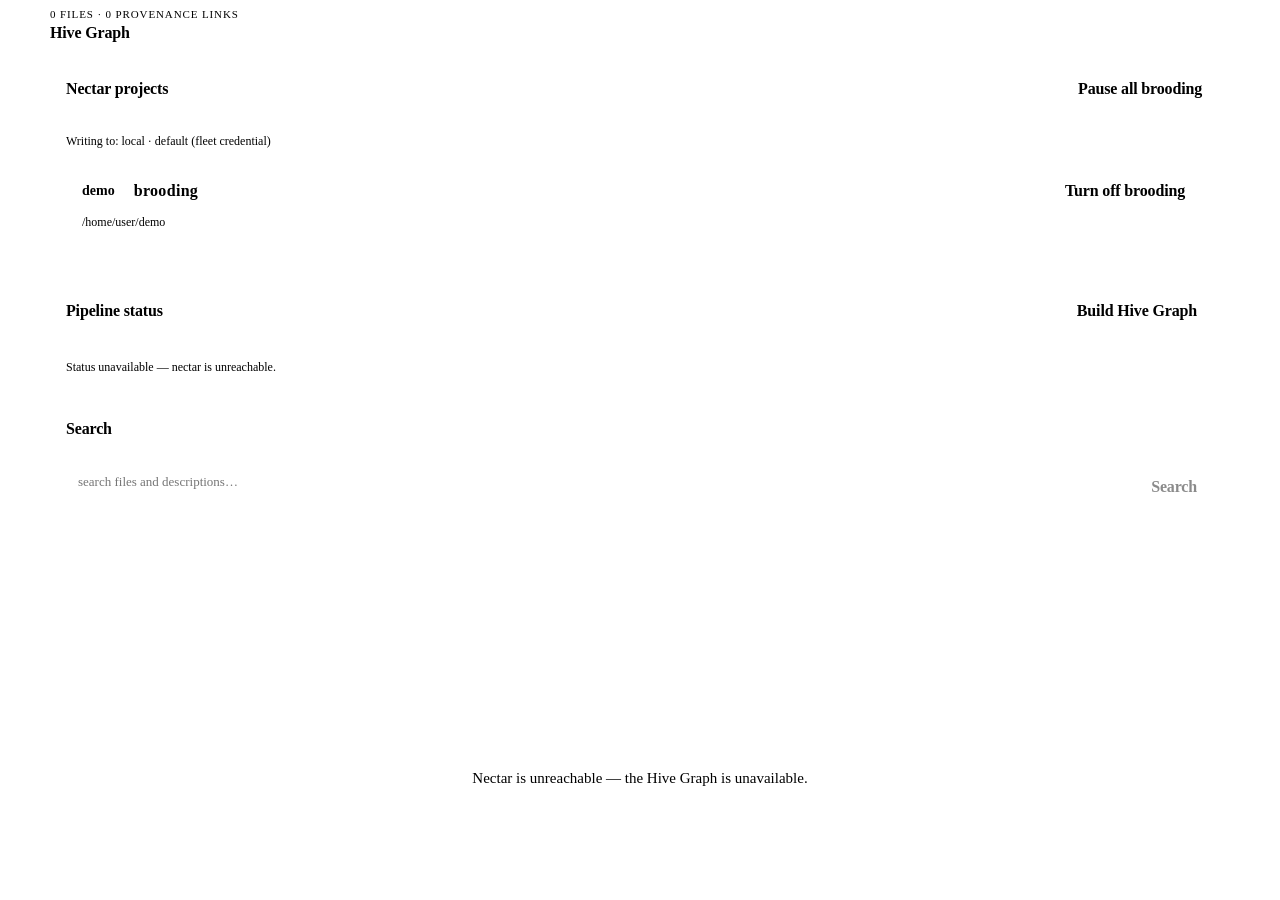
Test: HiveGraphPage › 015-AC-6 b-AC-10 shows unavailable states when nectar is down
The width and height of the screenshot is (1280, 900).
Expected: the element with test id "hive-graph-empty-state" shows "unreachable", top-left (472, 770), bottom-right (808, 786)
In the field with test id "hive-graph-search-input": (596, 482) top-left (66, 467), bottom-right (1126, 497), type "x"
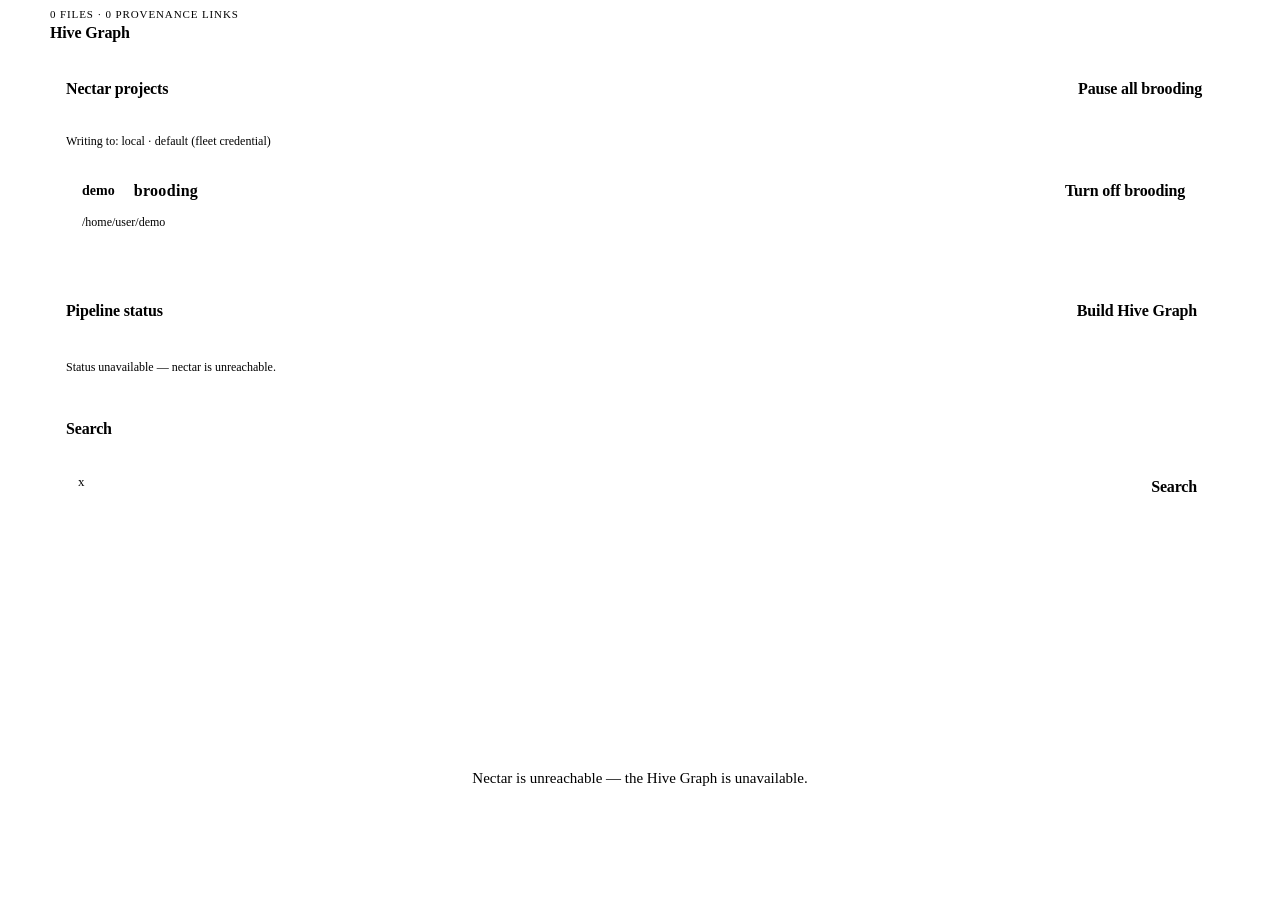
Click the button with test id "hive-graph-search-submit": (1174, 487) top-left (1134, 467), bottom-right (1214, 507)
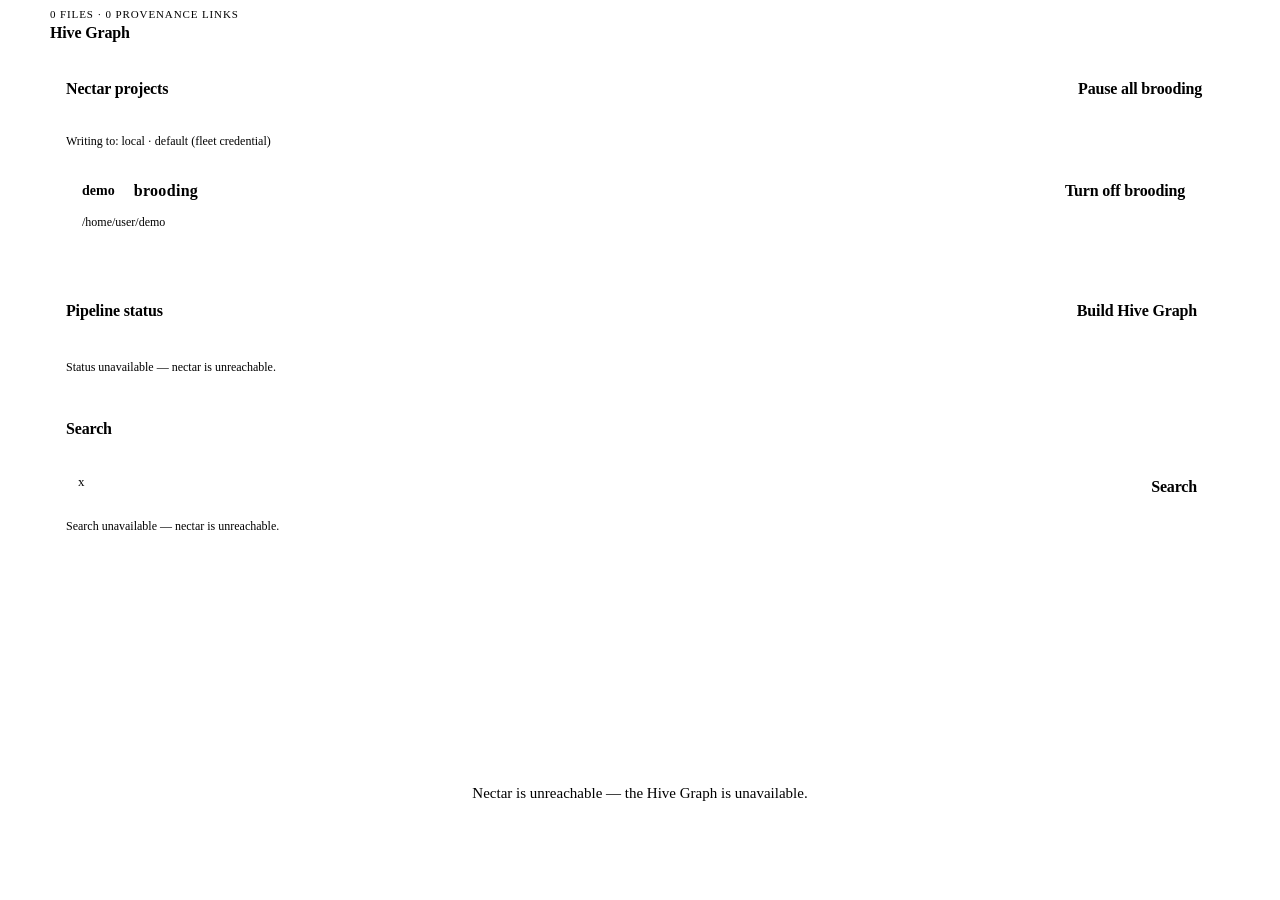
Expected: the text "Status unavailable — nectar is unreachable." is shown, top-left (66, 360), bottom-right (276, 374)
Expected: the text "Search unavailable — nectar is unreachable." is shown, top-left (66, 519), bottom-right (279, 533)
